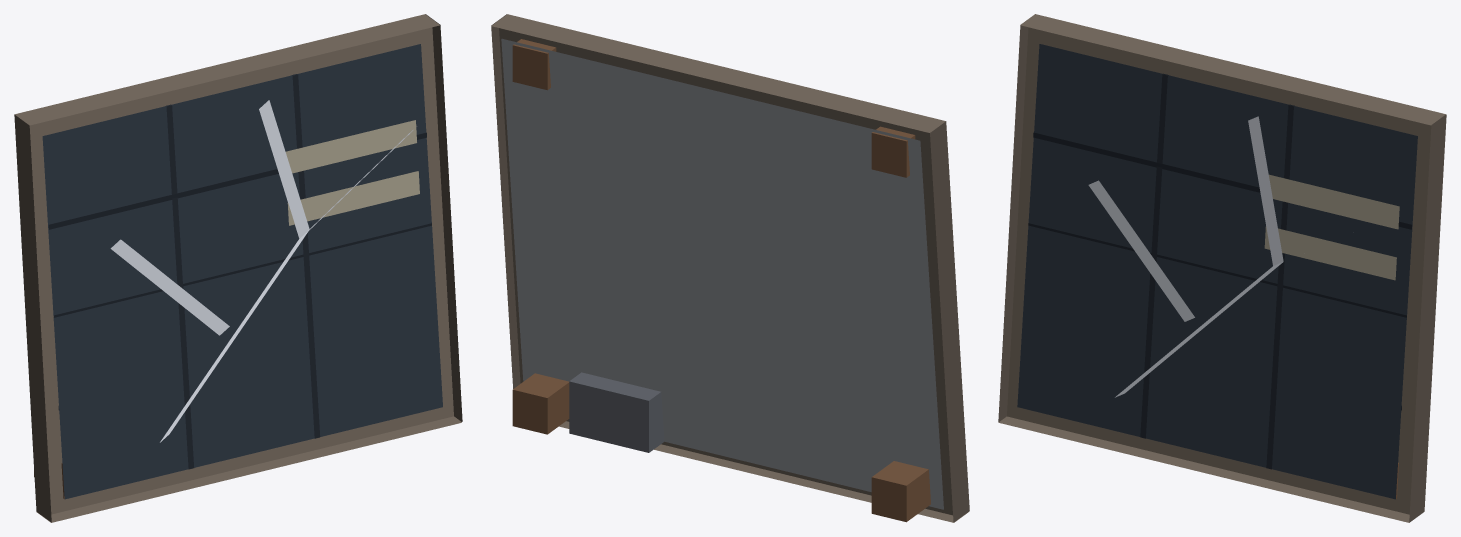
Rendered from array_flat_makeshift_cracked_S.obj.
3 renders of one model, left to right at view 1: azimuth 30°, elevation 25°; view 2: azimuth 150°, elevation 25°; view 3: azimuth 330°, elevation 25°, orthographic. The views are drawn at different scales.
Visible parts, largest first — view 1: array_flat_makeshift_cracked_S; view 2: array_flat_makeshift_cracked_S; view 3: array_flat_makeshift_cracked_S.
Boxes of the visible parts, x1,y1,x2,y2 form: array_flat_makeshift_cracked_S: [14, 14, 462, 522]; array_flat_makeshift_cracked_S: [491, 14, 969, 522]; array_flat_makeshift_cracked_S: [998, 14, 1446, 522].
Bounding box in the file's own units: 0.881 × 0.781 × 0.142.
1 material, 1 textured.
